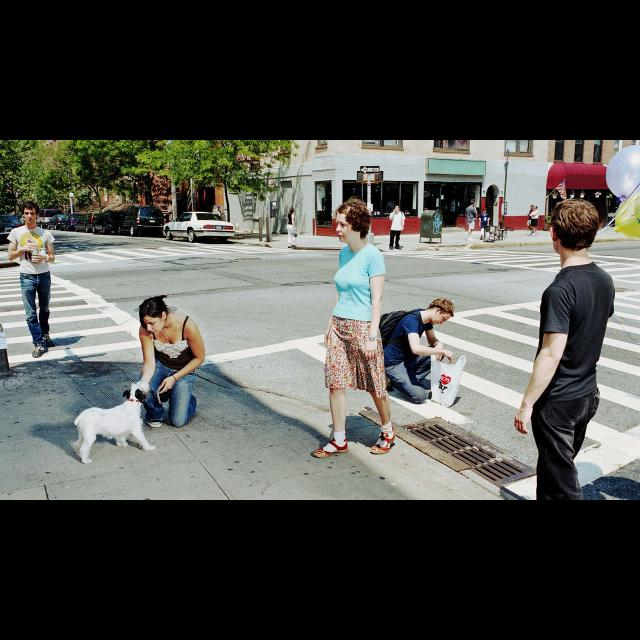head: (550, 197, 600, 255), (335, 203, 369, 243), (140, 296, 168, 336), (428, 298, 456, 326), (24, 203, 38, 225), (395, 206, 401, 214), (471, 200, 477, 208), (290, 207, 296, 213), (483, 209, 487, 215), (530, 205, 534, 211), (534, 206, 538, 212), (216, 206, 220, 210)
person: (309, 196, 399, 460), (362, 295, 458, 407), (133, 293, 209, 432), (6, 199, 58, 359), (388, 204, 407, 250), (464, 198, 480, 244), (286, 207, 298, 249), (478, 208, 492, 240), (526, 204, 536, 236), (530, 206, 540, 237), (212, 205, 222, 235)
